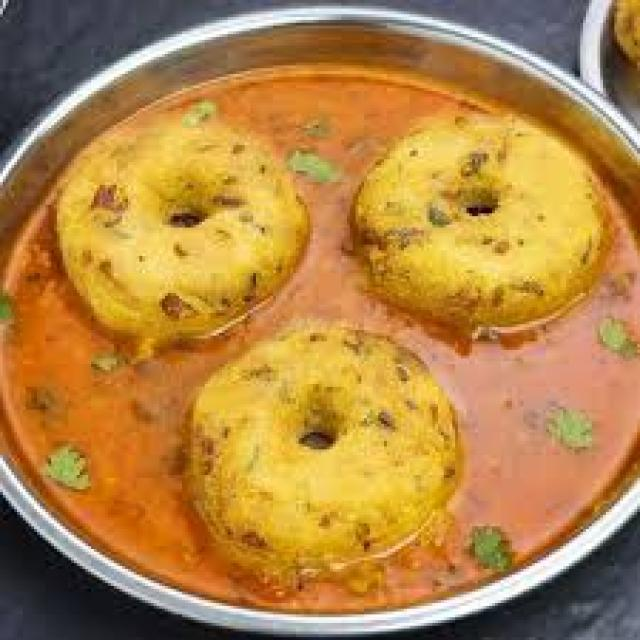MEDU VADA: (187, 320, 467, 582), (60, 106, 318, 348), (353, 116, 606, 346)
